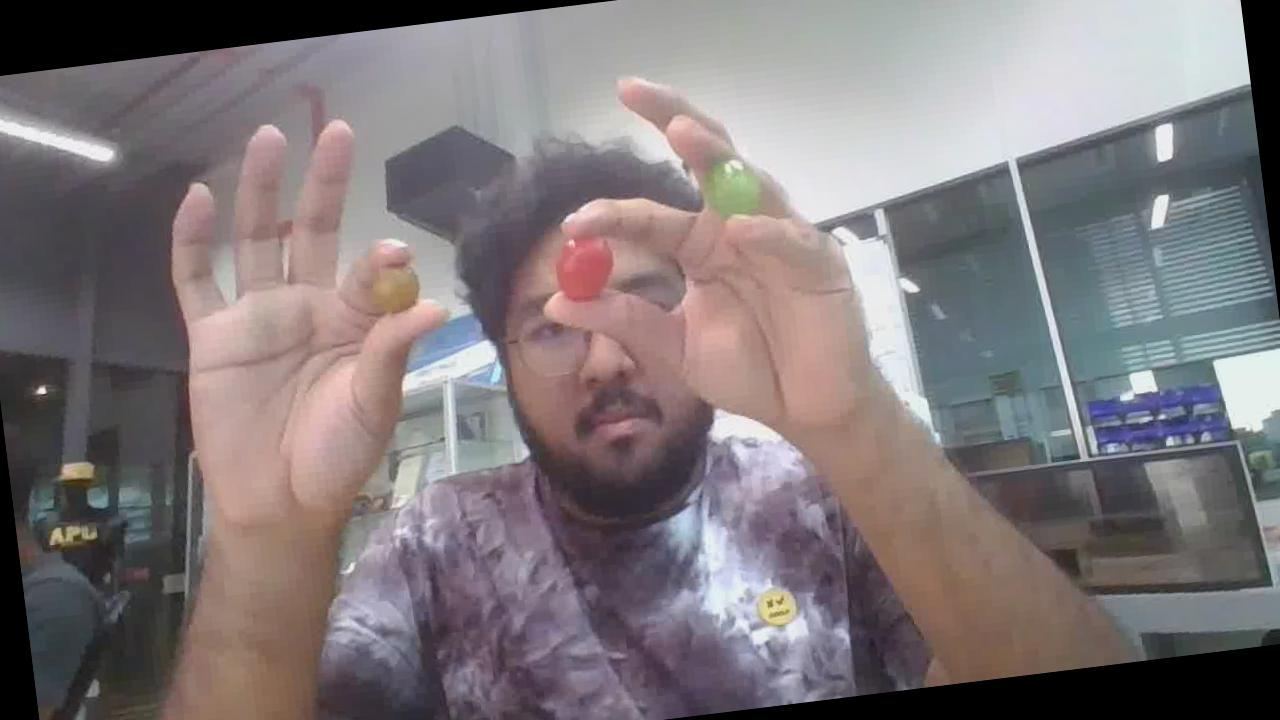green_cherry_tomato: (702, 159, 762, 216)
red_cherry_tomato: (556, 237, 612, 300)
yellow_cherry_tomato: (372, 268, 419, 312)
